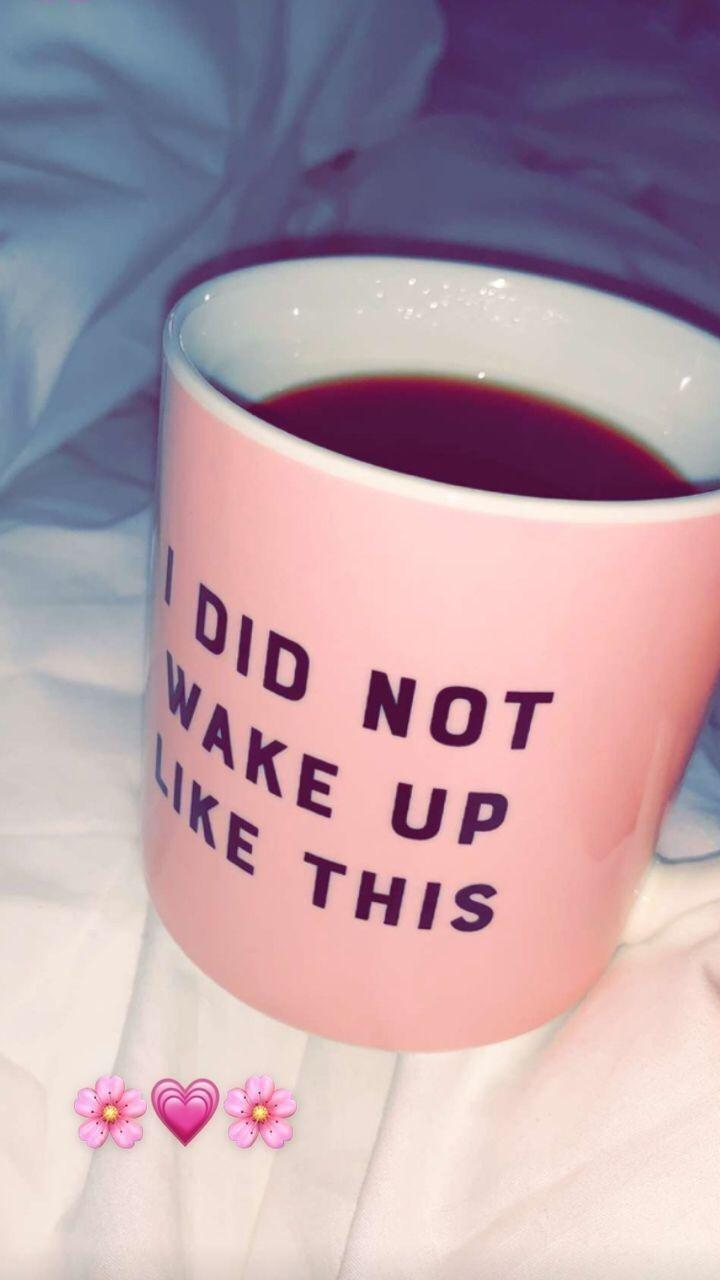cup-handle: (140, 247, 719, 1059)
